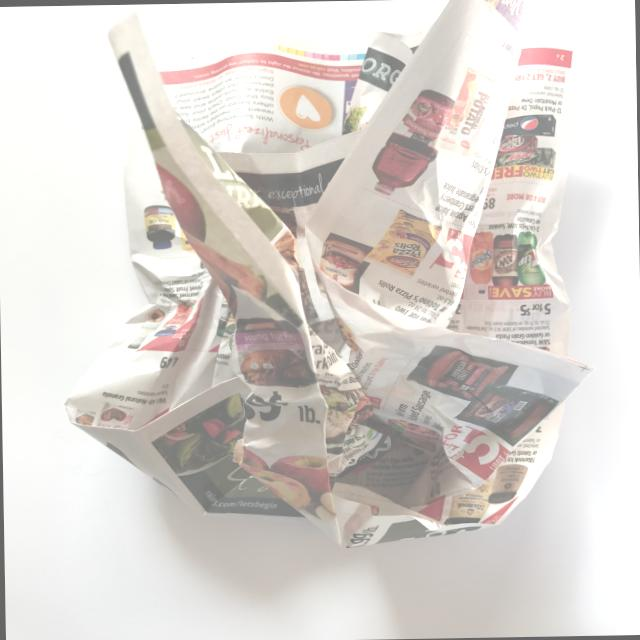Paper: (40, 0, 604, 594)
